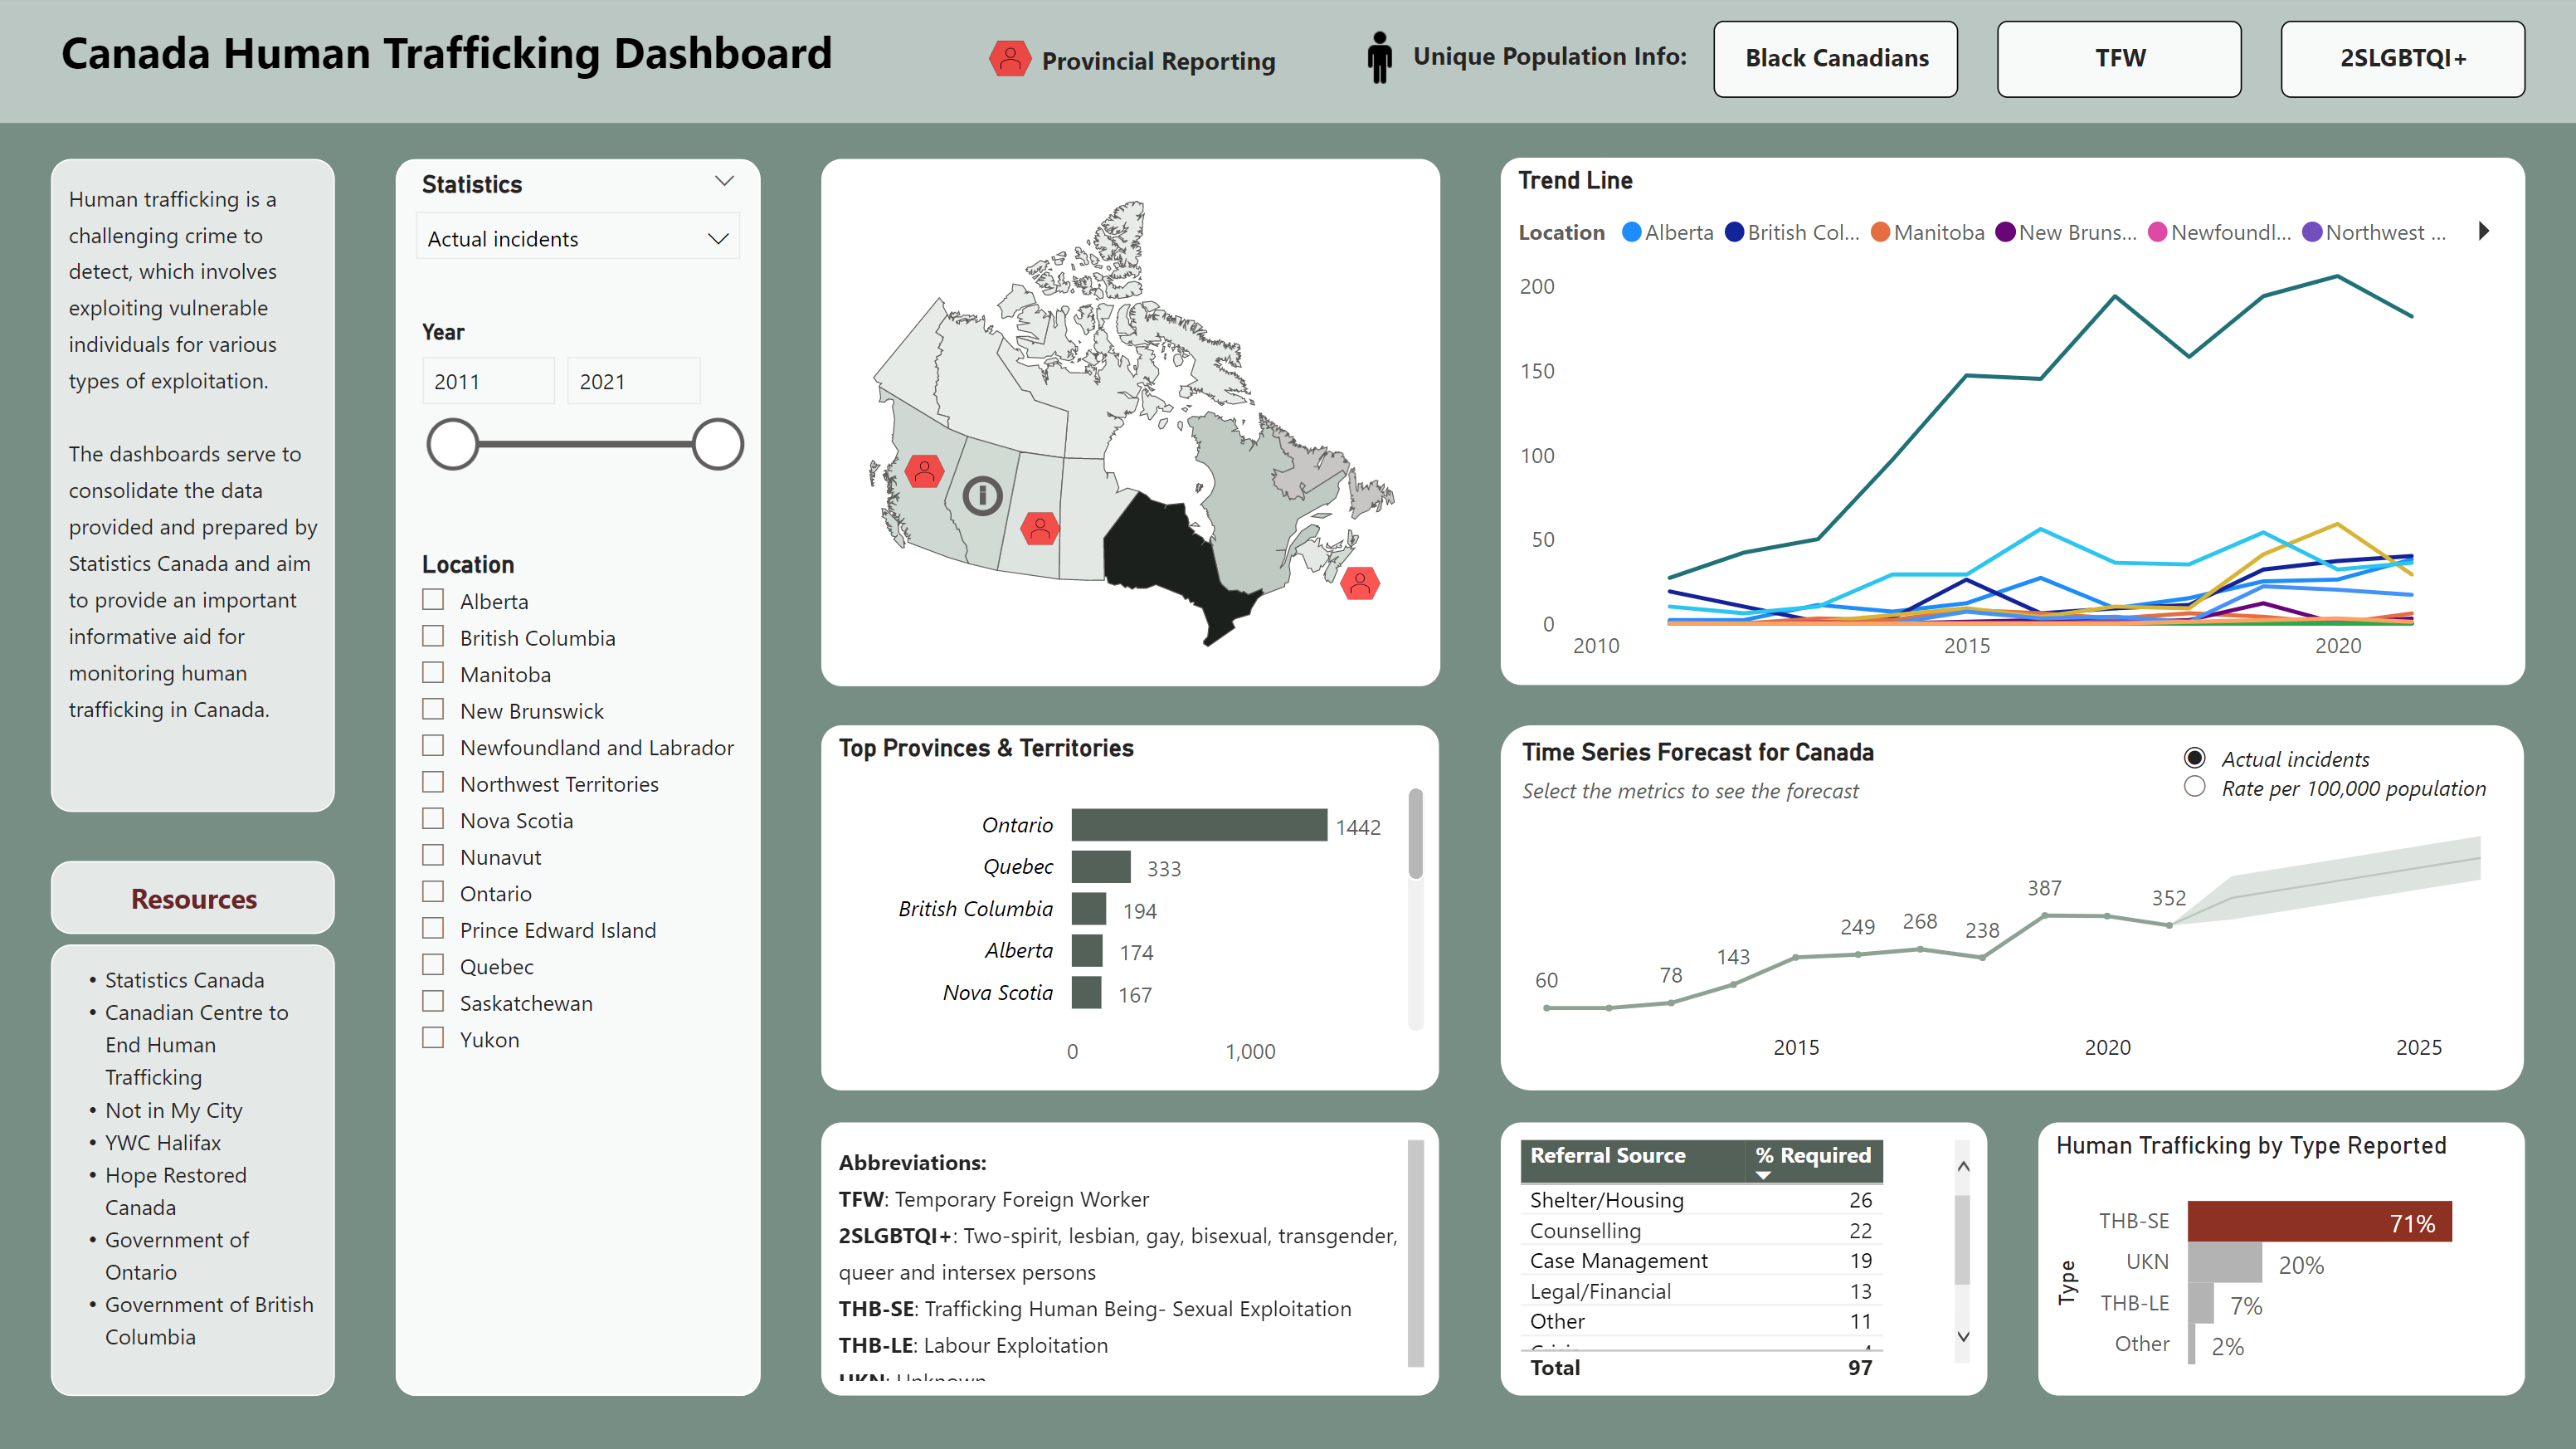

Layout of this report page (visuals, bound fields, positions):
{"tool":"powerbi","page":{"name":"Provinces","canvas":[1280,720],"ordinal":0},"visuals":[{"type":"shape","box":[0,0,1280,62.7],"z":0},{"type":"image","box":[487.2,13.7,31.3,35.3],"z":0,"group":"g1"},{"type":"textbox","box":[513.3,17,142.4,28.7],"z":1000,"group":"g1"},{"type":"textbox","box":[30,6.5,411.4,49.6],"z":1000},{"type":"textbox","box":[30,80.3,139.8,322],"z":2000},{"type":"lineChart","title":"Trend Line","fields":{"Category":["StatCan_provinces_cleaned.Year"],"Y":["Sum(StatCan_provinces_cleaned.VALUE)"],"Series":["StatCan_provinces_cleaned.Location"]},"box":[745,80,505,260],"z":3000},{"type":"tableEx","fields":{"Values":["Referral Sources.Referral Source","Sum(Referral Sources.%)"]},"box":[745.1,555.8,240.3,134.5],"z":4000},{"type":"clusteredBarChart","title":"Human Trafficking by Type Reported","fields":{"Category":["Breakdown by Type.Type"],"Y":["Sum(Breakdown by Type.Percentage)"]},"box":[1010.3,555.8,239.7,134.5],"z":5000},{"type":"textbox","box":[850,12.4,120.8,38],"z":6000},{"type":"textbox","box":[990,12,120.8,38],"z":7000},{"type":"textbox","box":[1130,12,120.8,38],"z":8000},{"type":"textbox","box":[690.9,14.4,156.7,33.3],"z":9000},{"type":"actionButton","box":[850.3,12.4,120.8,37.9],"z":10000},{"type":"actionButton","box":[990.7,11.8,120.2,37.9],"z":11000},{"type":"actionButton","box":[1129.1,12.4,120.8,37.9],"z":12000},{"type":"lineChart","title":"Time Series Forecast for Canada","fields":{"Y":["Sum(Forecast - Canada.VALUE)"],"Category":["Forecast - Canada.Date"]},"box":[745.1,359.8,504.8,180.2],"z":13000},{"type":"slicer","fields":{"Values":["Forecast 2.Statistics"]},"box":[1074.3,367.7,169.1,34.6],"z":14000},{"type":"clusteredBarChart","title":"Top Provinces & Territories","fields":{"Category":["StatCan_provinces_cleaned.Location"],"Y":["Sum(StatCan_provinces_cleaned.VALUE)"]},"box":[410.1,359.8,305,180.2],"z":15000},{"type":"image","box":[666.1,10.4,38.5,40.5],"z":16000},{"type":"textbox","box":[30,426.4,139.8,35.9],"z":17000},{"type":"textbox","box":[30,467.6,139.8,222.7],"z":18000},{"type":"shapeMap","fields":{"Category":["StatCan_provinces_cleaned.ISO Code"],"Value":["Sum(StatCan_provinces_cleaned.VALUE)"]},"box":[410.1,80.3,305,260],"z":19000},{"type":"shape","box":[200,80.3,180.2,610],"z":20000},{"type":"slicer","fields":{"Values":["StatCan_provinces_cleaned.Statistics"]},"box":[199.8,80.3,180.2,73.8],"z":21000},{"type":"slicer","fields":{"Values":["StatCan_provinces_cleaned.Location"]},"box":[199.8,267.8,180.2,288],"z":22000},{"type":"slicer","fields":{"Values":["StatCan_provinces_cleaned.Year"]},"box":[199.8,154.1,180.2,113.6],"z":23000},{"type":"group","id":"g1","title":"Group 1","box":[487.2,13.7,168.5,35.3],"z":24000},{"type":"image","box":[445.4,219.4,30,30],"z":25000},{"type":"image","box":[502.9,247.5,30,30],"z":26000},{"type":"image","box":[660.2,274.3,30,30],"z":27000},{"type":"actionButton","box":[475.4,232.5,28,28],"z":28000},{"type":"textbox","box":[410.1,555.8,305,134.5],"z":29000}]}

Visuals, with their boxes in screenshot pixels (x1, y1, x2, y2), scaled from the page's 1280x720 canvas onto the 2576x1449 screenshot:
shape: l=0, t=0, r=2575, b=126
image: l=981, t=27, r=1044, b=99
textbox: l=1033, t=34, r=1320, b=92
textbox: l=61, t=13, r=889, b=113
textbox: l=61, t=162, r=342, b=810
"Trend Line" lineChart: l=1499, t=161, r=2515, b=684
tableEx - Referral Sources.Referral Source x Sum(Referral Sources.%): l=1499, t=1119, r=1983, b=1389
"Human Trafficking by Type Reported" clusteredBarChart: l=2033, t=1119, r=2515, b=1389
textbox: l=1711, t=25, r=1954, b=101
textbox: l=1993, t=24, r=2236, b=100
textbox: l=2274, t=24, r=2517, b=100
textbox: l=1390, t=29, r=1706, b=96
actionButton: l=1712, t=25, r=1955, b=101
actionButton: l=1994, t=24, r=2236, b=100
actionButton: l=2272, t=25, r=2515, b=101
"Time Series Forecast for Canada" lineChart: l=1499, t=724, r=2515, b=1087
slicer - Forecast 2.Statistics: l=2162, t=740, r=2502, b=810
"Top Provinces & Territories" clusteredBarChart: l=825, t=724, r=1439, b=1087
image: l=1341, t=21, r=1418, b=102
textbox: l=61, t=858, r=342, b=930
textbox: l=61, t=941, r=342, b=1389
shapeMap - StatCan_provinces_cleaned.ISO Code x Sum(StatCan_provinces_cleaned.VALUE): l=825, t=162, r=1439, b=685
shape: l=402, t=162, r=765, b=1389
slicer - StatCan_provinces_cleaned.Statistics: l=402, t=162, r=765, b=310
slicer - StatCan_provinces_cleaned.Location: l=402, t=539, r=765, b=1119
slicer - StatCan_provinces_cleaned.Year: l=402, t=310, r=765, b=539
"Group 1" group: l=981, t=27, r=1320, b=99
image: l=896, t=442, r=957, b=502
image: l=1012, t=498, r=1073, b=559
image: l=1329, t=552, r=1389, b=612
actionButton: l=957, t=468, r=1013, b=524
textbox: l=825, t=1119, r=1439, b=1389
